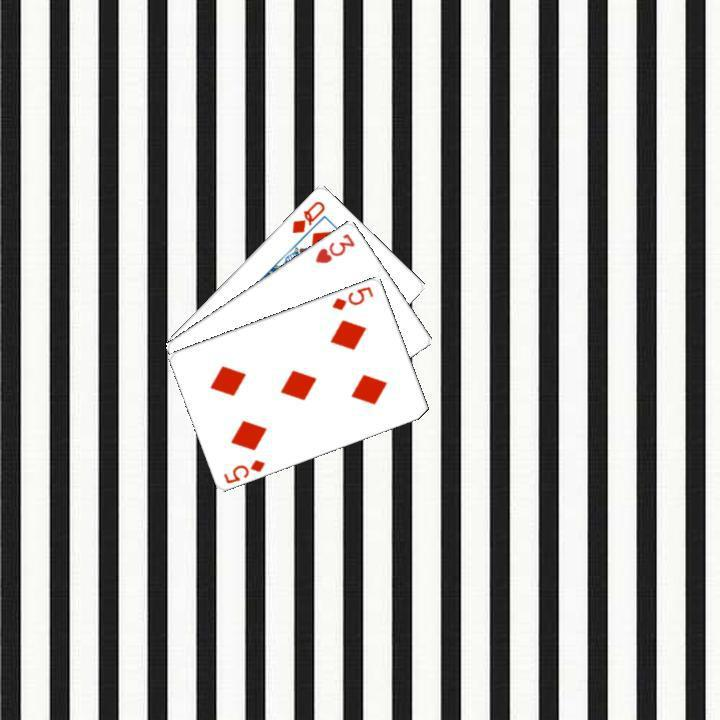3: (311, 229, 357, 265)
5: (219, 454, 268, 485), (328, 281, 376, 312)
Q: (287, 196, 327, 235)
